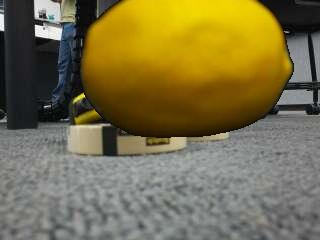lemon: (82, 2, 291, 140)
